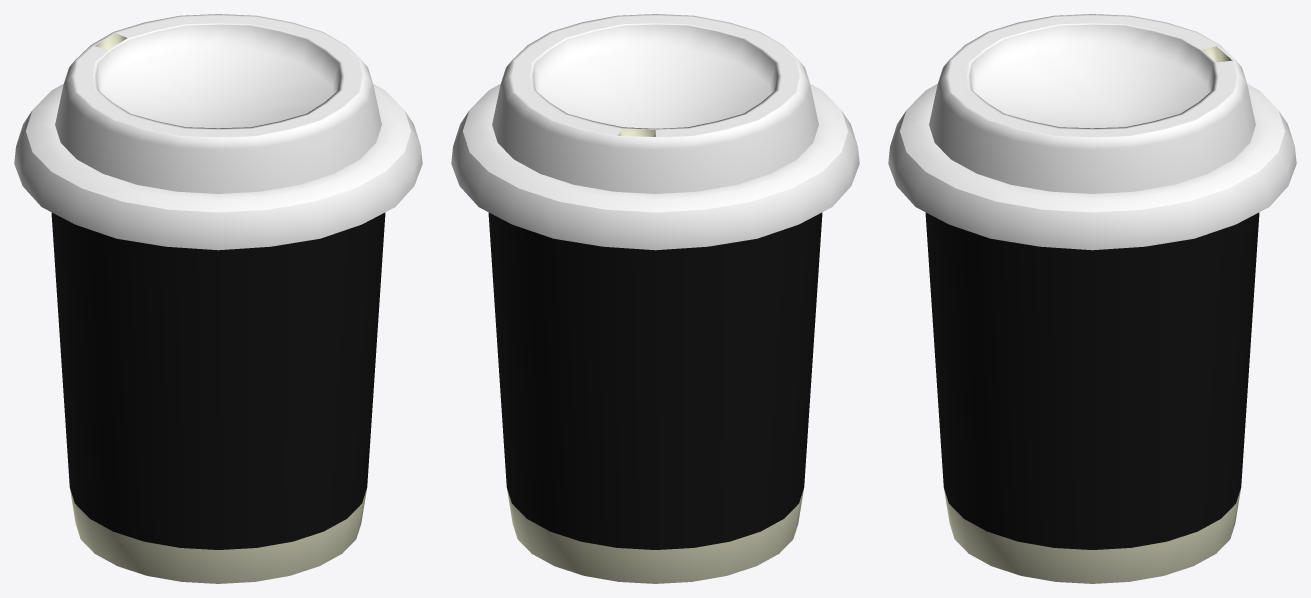
File: Cup.fbx
The picture shows the model from 3 angles, left to right: view 1: azimuth 30°, elevation 25°; view 2: azimuth 150°, elevation 25°; view 3: azimuth 270°, elevation 25°; orthographic projection.
Parts seen in each view (by area): view 1: pCylinder1; view 2: pCylinder1; view 3: pCylinder1.
Part boxes in pixels (box(x1,y1,x2,y2)): pCylinder1: box(14, 14, 422, 583); pCylinder1: box(451, 14, 859, 583); pCylinder1: box(888, 14, 1296, 583).
Bounding box in the file's own units: 2.95 × 3.57 × 2.95.
